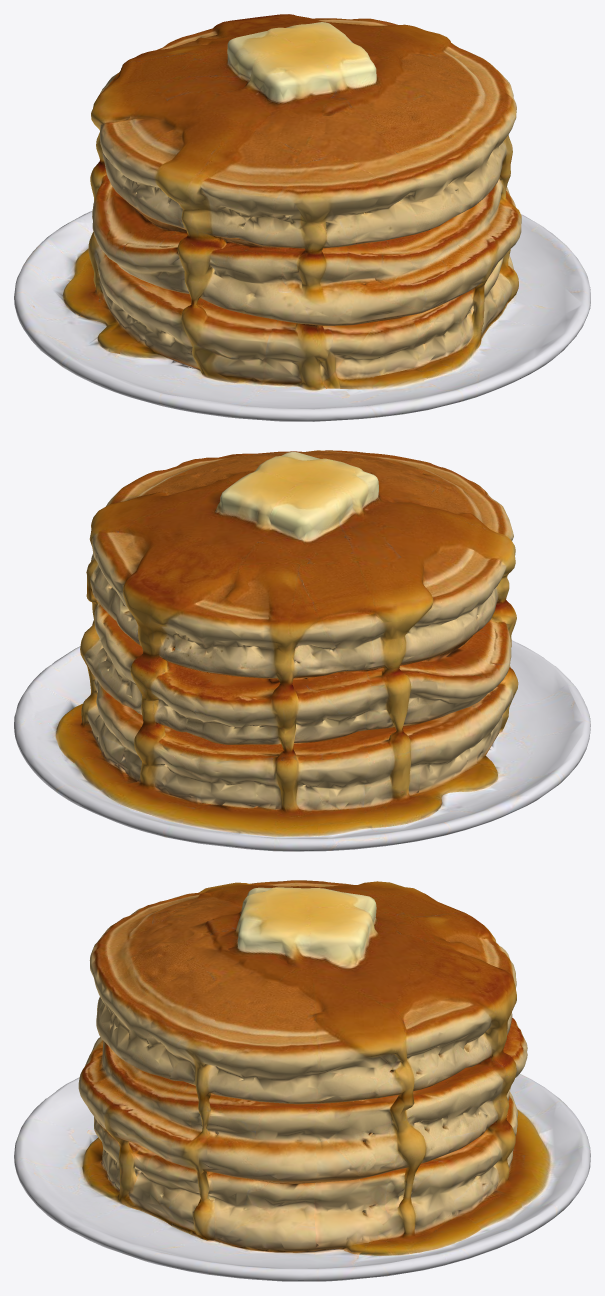
The model's file is pancake-stack-ar.glb.
3 renders of one model, top to bottom at view 1: azimuth 30°, elevation 25°; view 2: azimuth 150°, elevation 25°; view 3: azimuth 270°, elevation 25°, orthographic.
Visible parts, largest first — view 1: mesh_node; view 2: mesh_node; view 3: mesh_node.
Part boxes in pixels (left/top/right/bottom): mesh_node: left=14, top=14, right=590, bottom=421; mesh_node: left=14, top=450, right=590, bottom=851; mesh_node: left=14, top=880, right=590, bottom=1281.
Bounding box in the file's own units: 0.22 × 0.1117 × 0.2198.
Materials: 1 (1 with a texture image).
